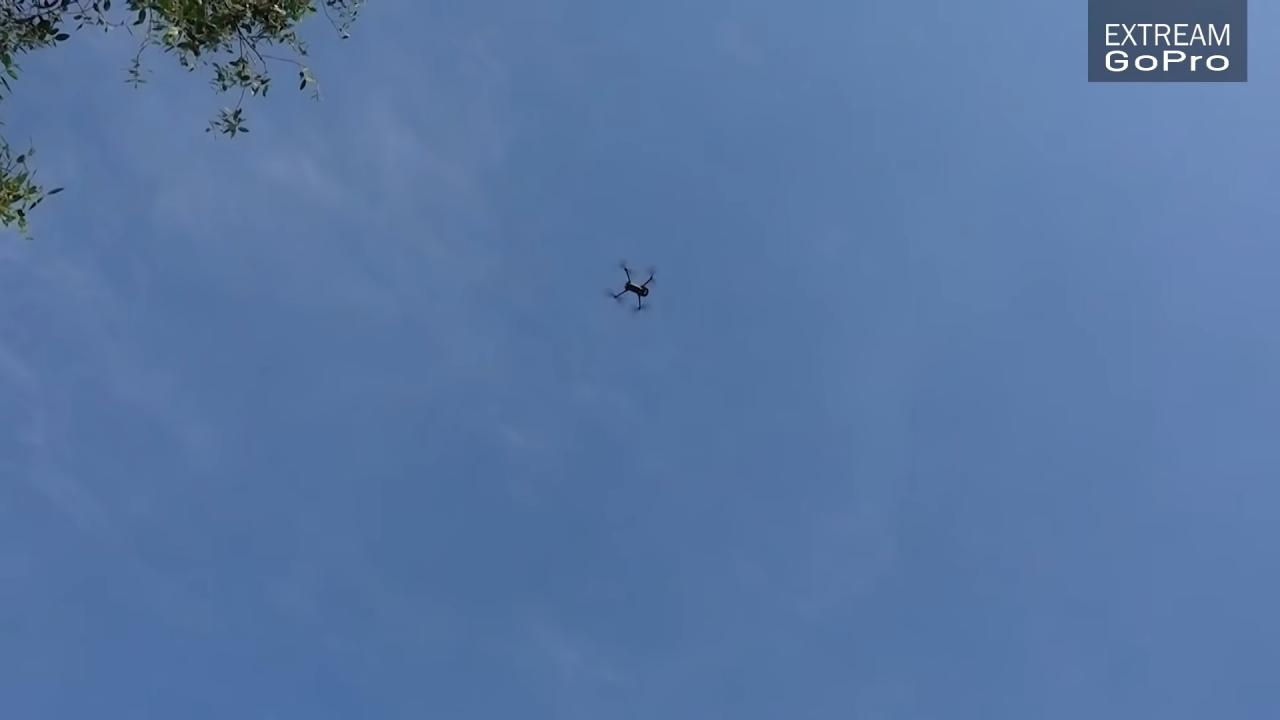Drone: (599, 252, 667, 323)
